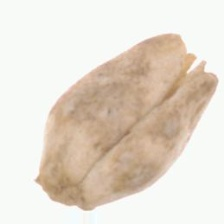L1: (169, 32, 216, 93), (30, 172, 80, 206)
L2: (35, 33, 217, 210)
